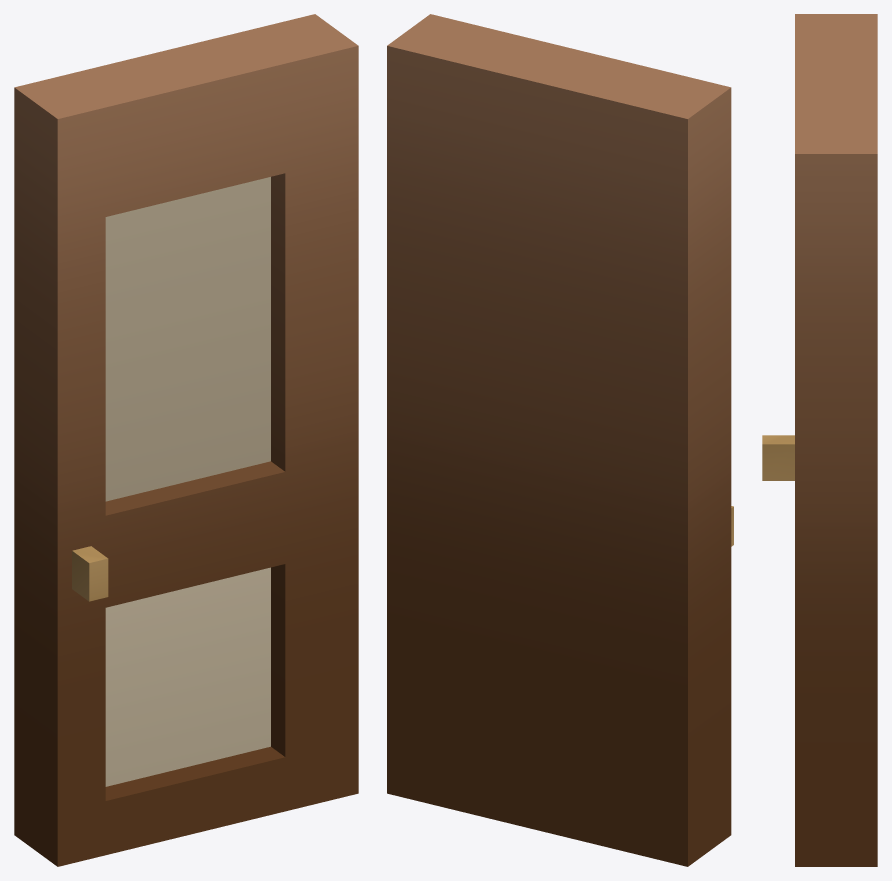
File: Farmhouse_Door_R.gltf
3 renders of one model, left to right at view 1: azimuth 30°, elevation 25°; view 2: azimuth 150°, elevation 25°; view 3: azimuth 270°, elevation 25°, orthographic. The views are drawn at different scales.
Parts seen in each view (by area): view 1: Farmhouse_Door_R; view 2: Farmhouse_Door_R; view 3: Farmhouse_Door_R.
Part boxes in pixels (x1,y1,x2,y2): Farmhouse_Door_R: (14,14,358,866); Farmhouse_Door_R: (387,14,733,866); Farmhouse_Door_R: (762,14,877,866).
Size of the model in its own units: 0.8 by 1.9 by 0.2785.
1 material, 1 textured.
